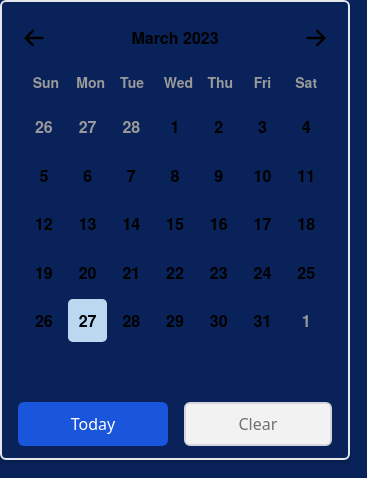
Scenario: Date Picker Component Functionality › Date picker opens year picker when clicked
Step 1. Click the text with test id "datepicker-monthyear" → coordinates (175, 38), box [131,26,219,49]
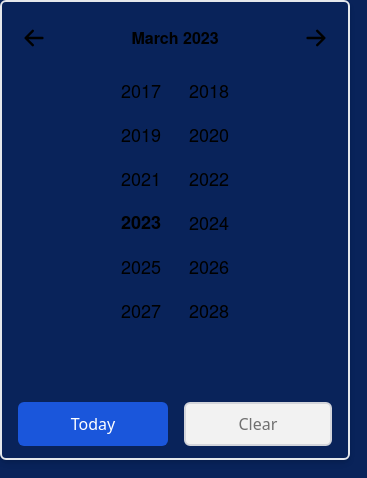
Expected: the element with class "react-datepicker__year-wrapper" is shown, [121,77,229,323]
